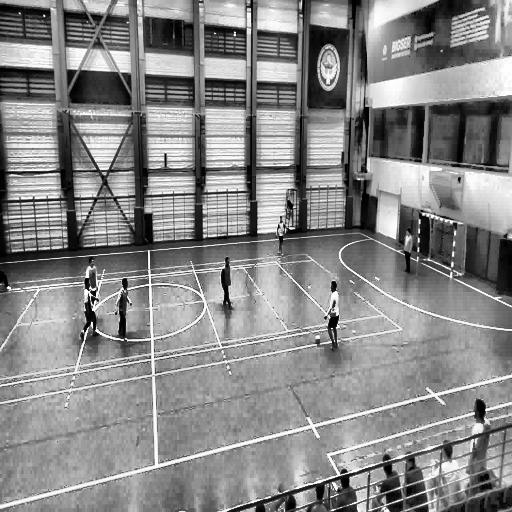ball: (315, 334, 321, 344)
player: (324, 281, 340, 354), (81, 278, 99, 338), (116, 278, 132, 339), (220, 255, 234, 310), (86, 255, 99, 310), (275, 214, 286, 256), (403, 228, 413, 274), (0, 244, 10, 290)
